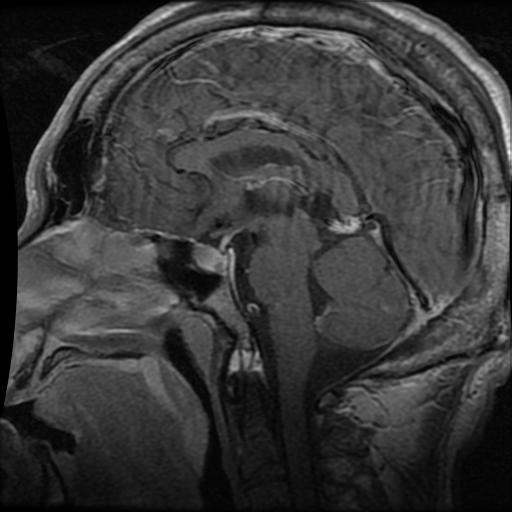Pituirity_tumour: (195, 246, 226, 269)
